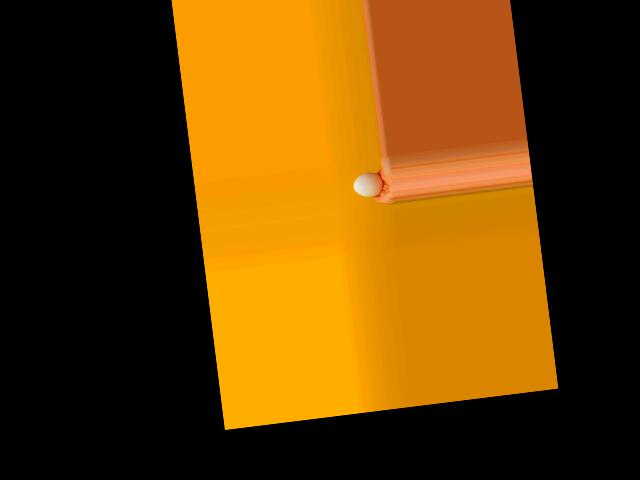egg: (352, 172, 385, 198)
